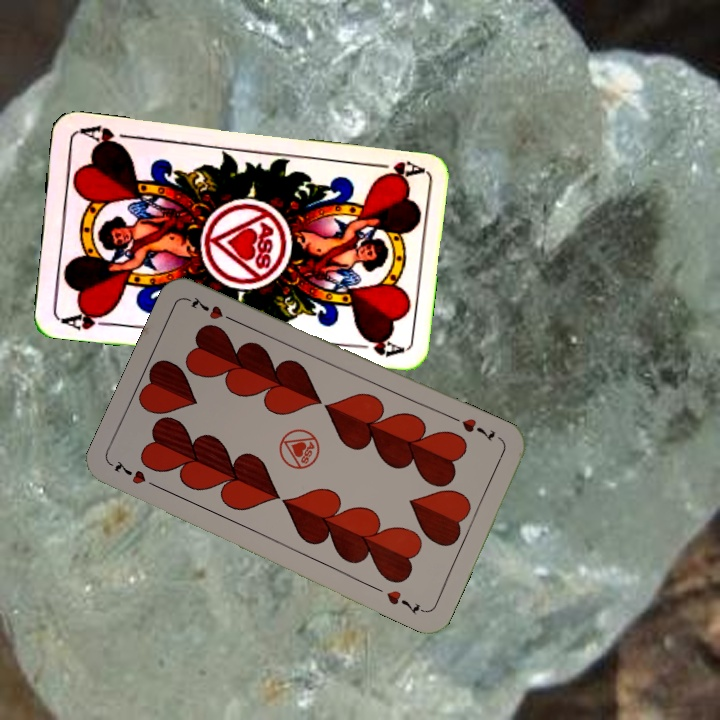H7: (110, 456, 163, 492), (457, 414, 498, 444)
HA: (54, 305, 114, 333), (364, 156, 424, 184)
